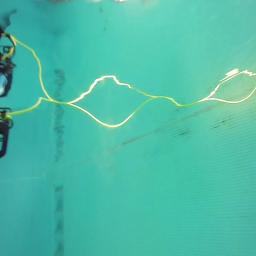Side: (0, 108, 10, 159)
